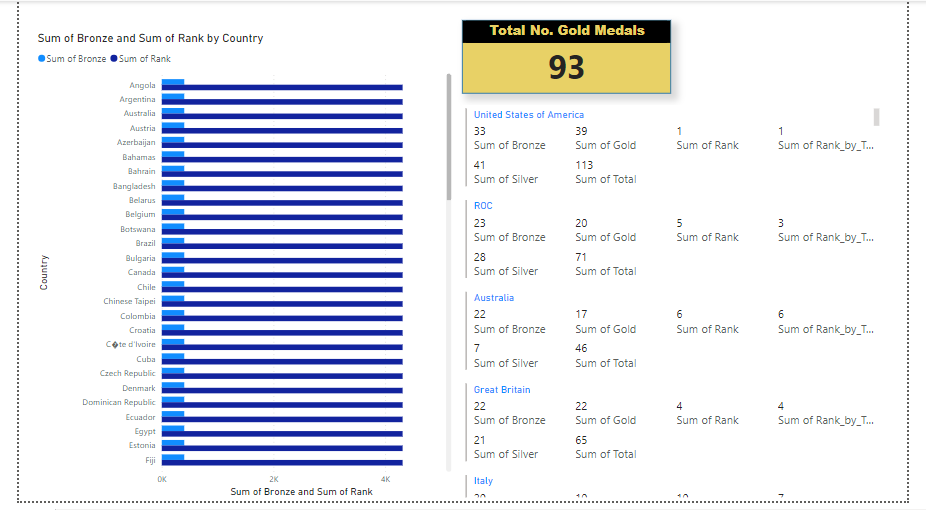

This screenshot's page, from the dashboard's own definition file:
{"tool":"powerbi","page":{"name":"Page 1","canvas":[1280,720],"ordinal":0},"visuals":[{"type":"textbox","title":"Total No. Gold Medals","box":[638.3,26.9,300.7,105.8],"z":0},{"type":"clusteredBarChart","fields":{"Category":["teams.Country"],"Y":["Sum(medals.Bronze)","Sum(medals.Rank)"]},"box":[21.8,43.7,606.4,677],"z":1},{"type":"multiRowCard","fields":{"Values":["Sum(medals.Bronze)","Sum(medals.Gold)","Sum(medals.Rank)","Sum(medals.Rank_by_Total)","Sum(medals.Silver)","medals.Team_Country","Sum(medals.Total)"]},"box":[638,150,606,570],"z":2}]}

Visuals, with their boxes in screenshot pixels (x1, y1, x2, y2), scaled from the page's 1280x720 canvas onto the 926x510 screenshot:
"Total No. Gold Medals" textbox: bbox(462, 19, 679, 94)
clusteredBarChart - teams.Country x Sum(medals.Bronze): bbox(16, 31, 454, 509)
multiRowCard - Sum(medals.Bronze) x Sum(medals.Gold): bbox(462, 106, 900, 509)
